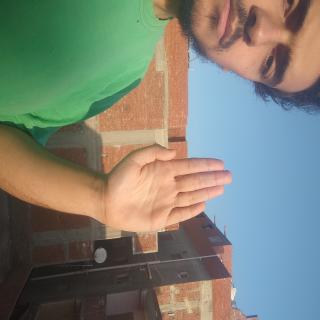SEEN: (109, 115, 183, 305)
